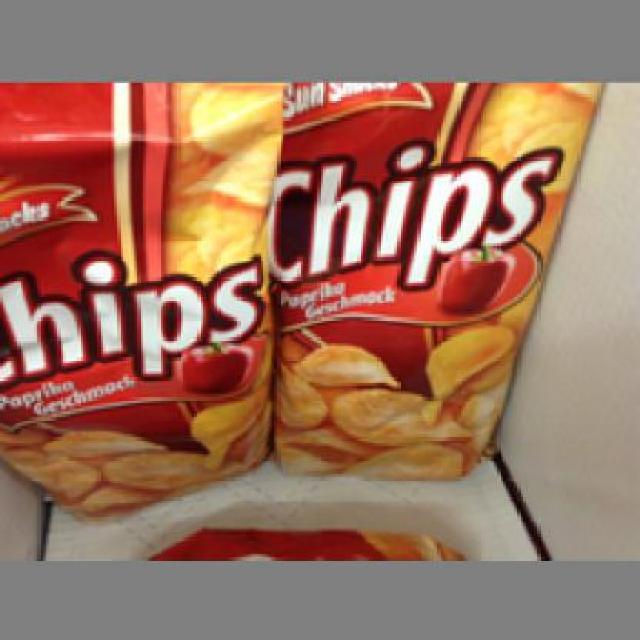Chips: (277, 80, 586, 480), (0, 83, 275, 521)
